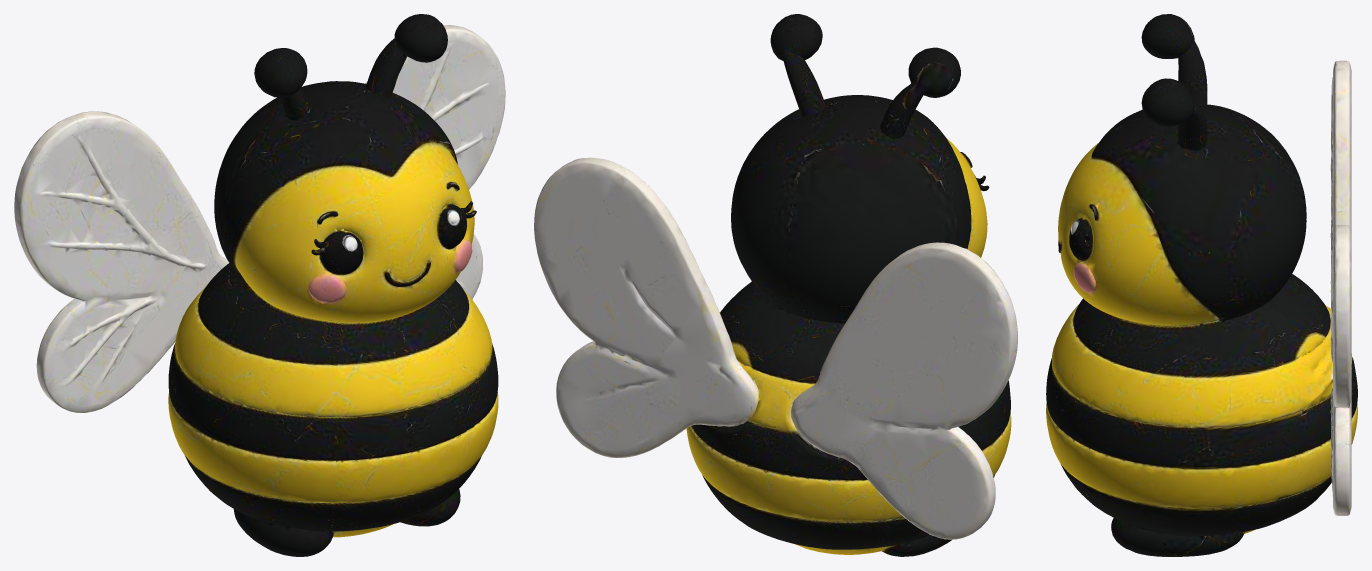
3 renders of one model, left to right at view 1: azimuth 30°, elevation 25°; view 2: azimuth 150°, elevation 25°; view 3: azimuth 270°, elevation 25°, orthographic. The views are drawn at different scales.
Bounding box in the file's own units: 1.9 × 1.84 × 1.11.
Materials: 1 (1 with a texture image).
